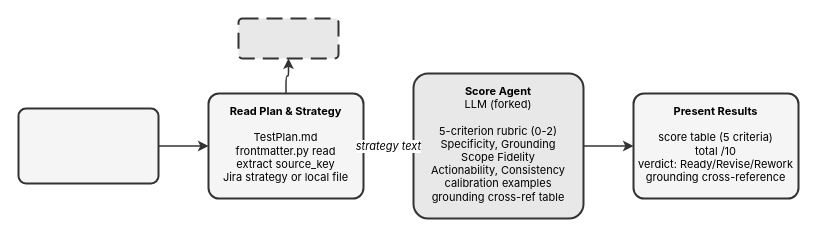
Some shapes in this 816 by 236 pixel diagram are drawn without their labels. The box of each missing label's shape, as (x1, y1, x2, y2) in pixels:
/test-plan.score feature_dir (required): (17, 107, 159, 184)
Jira source strategy: (237, 17, 339, 59)
